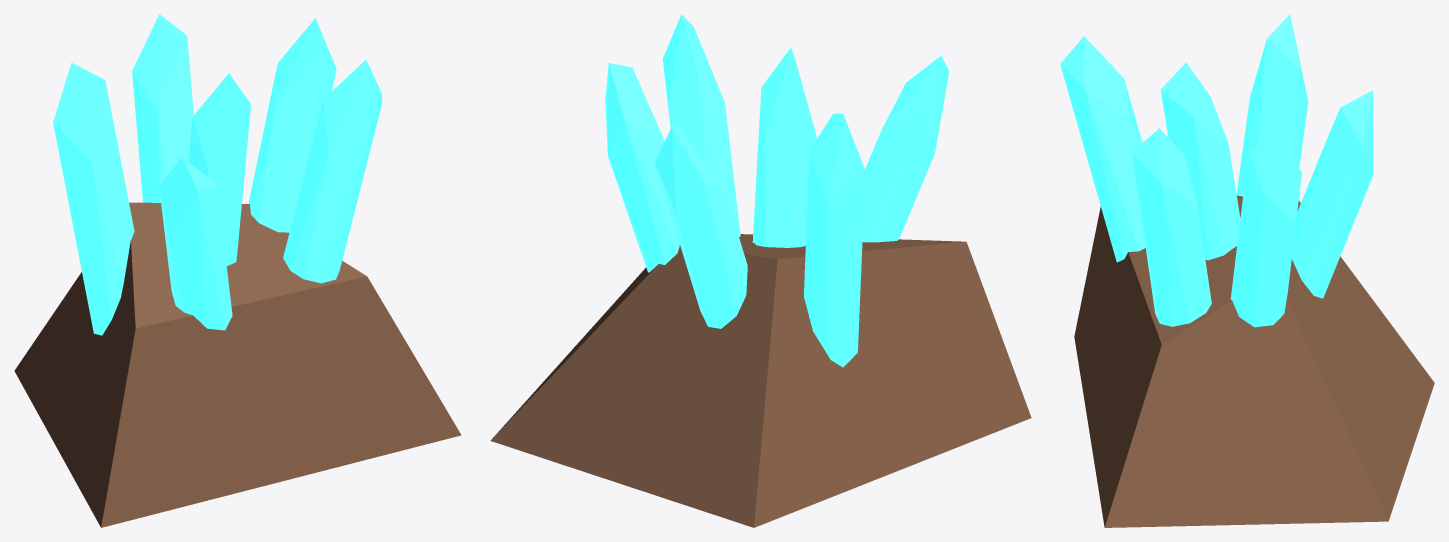
Rendered from mineral.glb.
The picture shows the model from 3 angles, left to right: view 1: azimuth 30°, elevation 25°; view 2: azimuth 150°, elevation 25°; view 3: azimuth 270°, elevation 25°; orthographic projection.
Parts seen in each view (by area): view 1: Cube.001; view 2: Cube.001; view 3: Cube.001.
Part boxes in pixels (box(x1,y1,x2,y2)): Cube.001: box(14, 14, 461, 527); Cube.001: box(490, 14, 1031, 527); Cube.001: box(1060, 14, 1434, 527).
Size of the model in its own units: 12.69 by 11.96 by 10.87.
